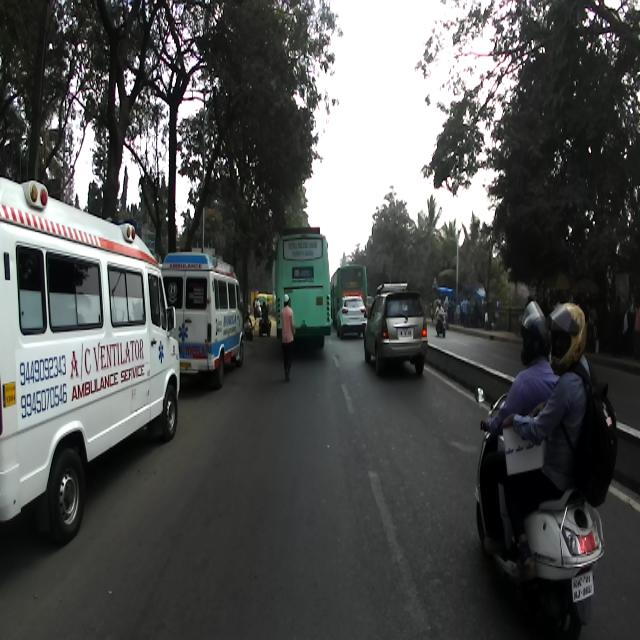bus ahead at: (0, 178, 183, 526), (274, 230, 329, 340)
car ahead at: (365, 278, 433, 375)
motorcycle ahead at: (506, 483, 605, 619)
